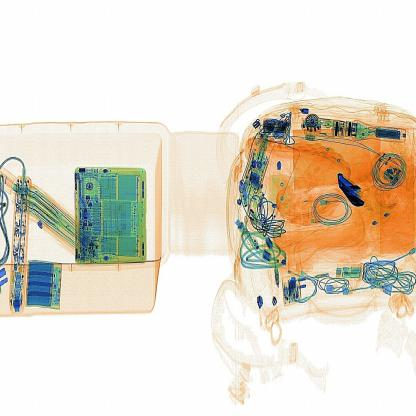pliers: (326, 166, 376, 225)
